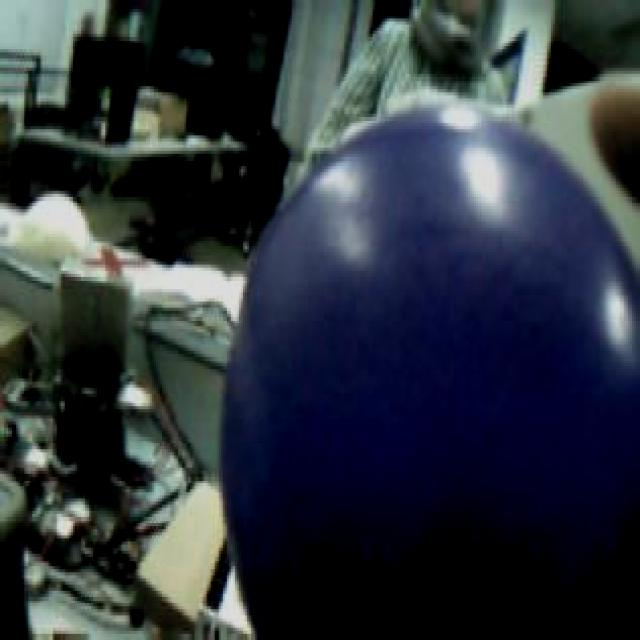BallPurple: (216, 104, 640, 640)
